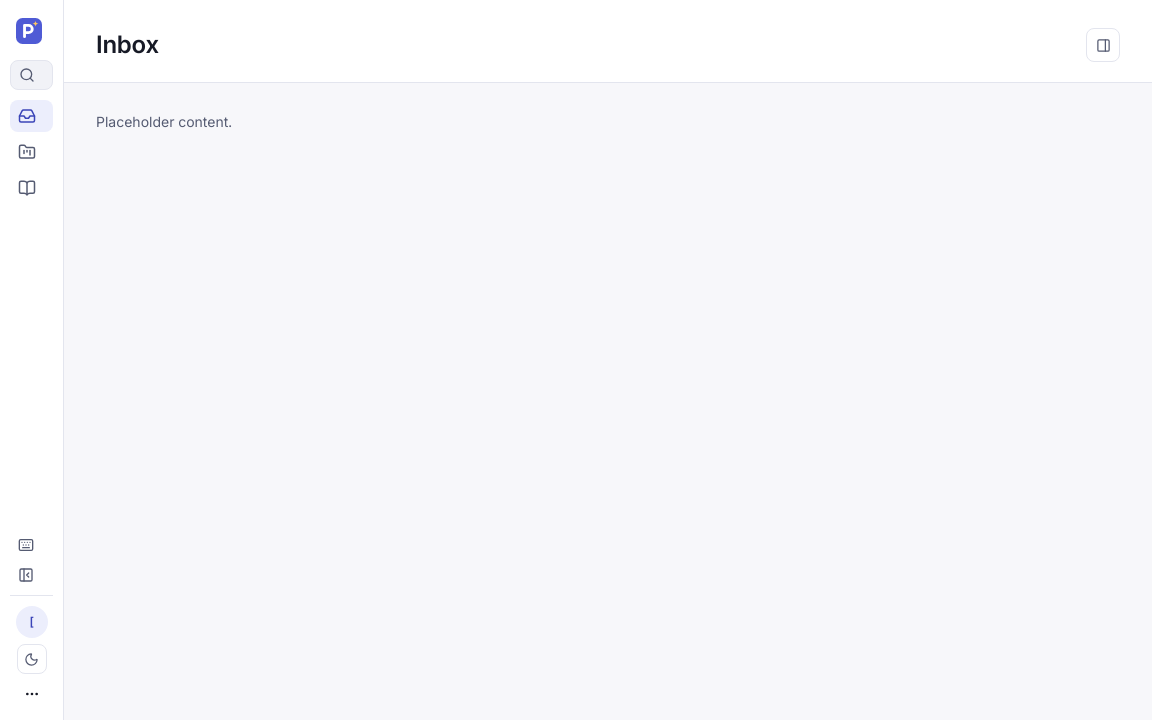
right pane tabs › opens on Inspector with the empty text; Activity says no activity yet
The width and height of the screenshot is (1152, 720).
Type keys "]"
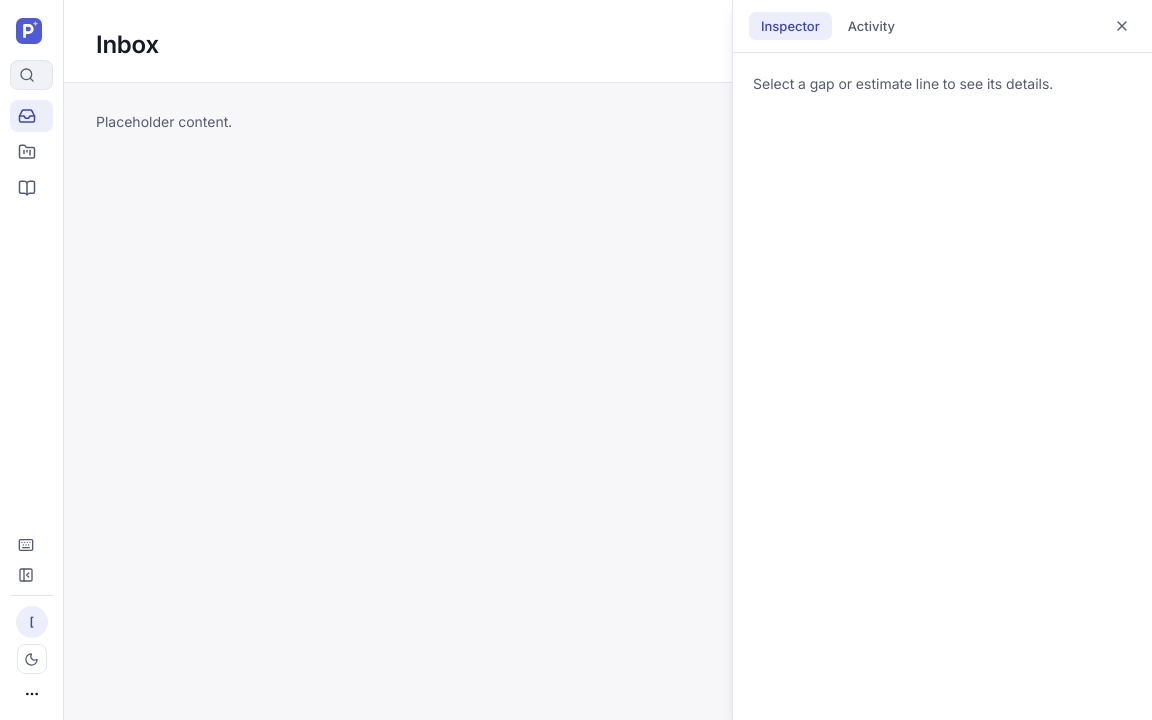
Result: the text "Select a gap or estimate line to see its details." is shown at [753,75,1053,92]
Click the tab "Activity" at (871, 26), box [836,12,907,40]
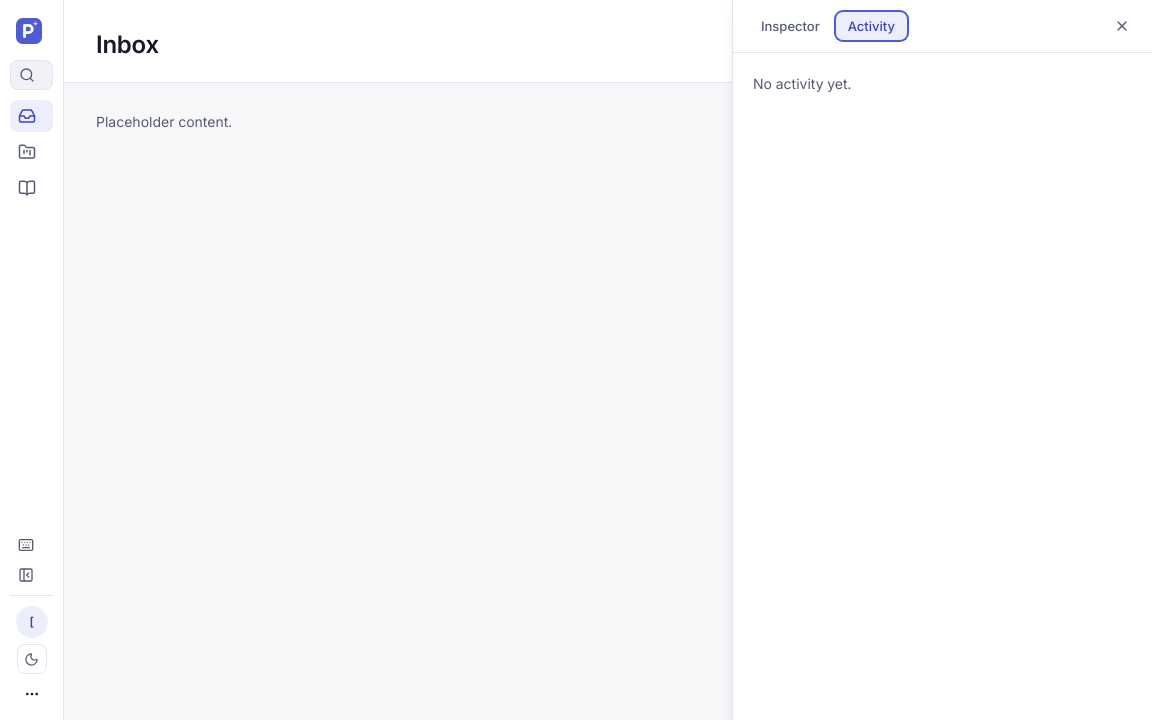
Result: the panel "activity" is shown at [753,75,851,92]
